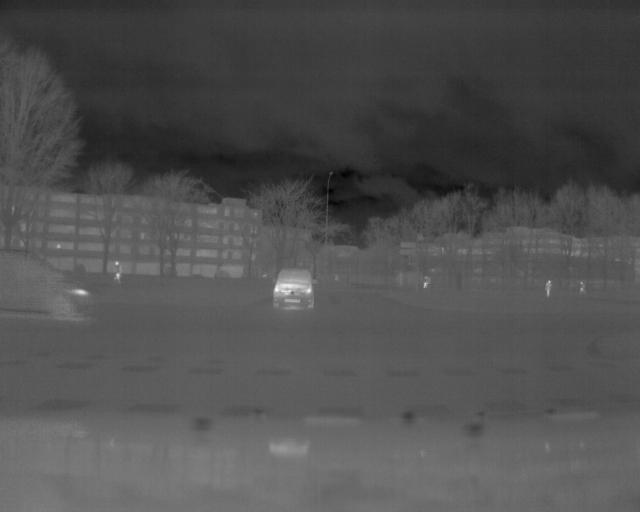car: (1, 247, 99, 325), (269, 267, 316, 313)
person: (112, 260, 122, 287)
